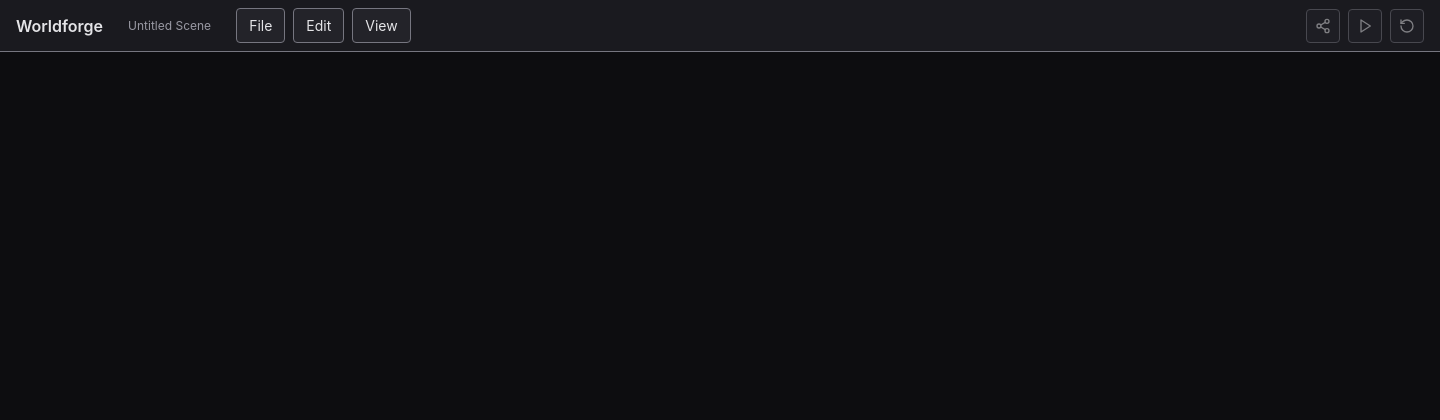
Test: Toolbar — View menu (M1.3, M1.4) › lists all seven camera presets plus the projection toggle
The width and height of the screenshot is (1440, 420).
Click the button "View".
click(382, 26)  # box [352,8,411,43]
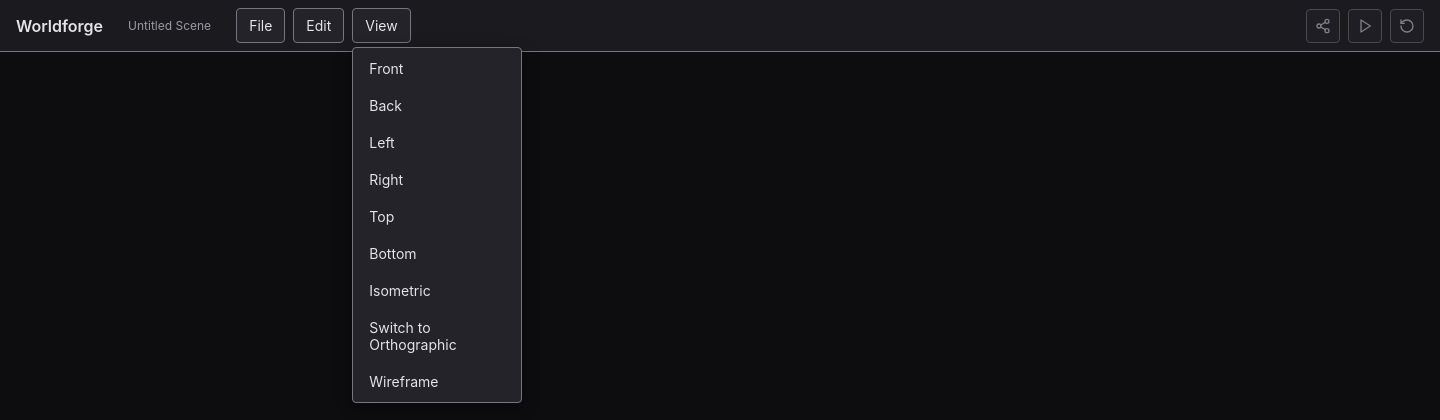
Now the button "Front" is shown, box [357,52,517,85]
Now the button "Back" is shown, box [357,89,517,122]
Now the button "Left" is shown, box [357,126,517,159]
